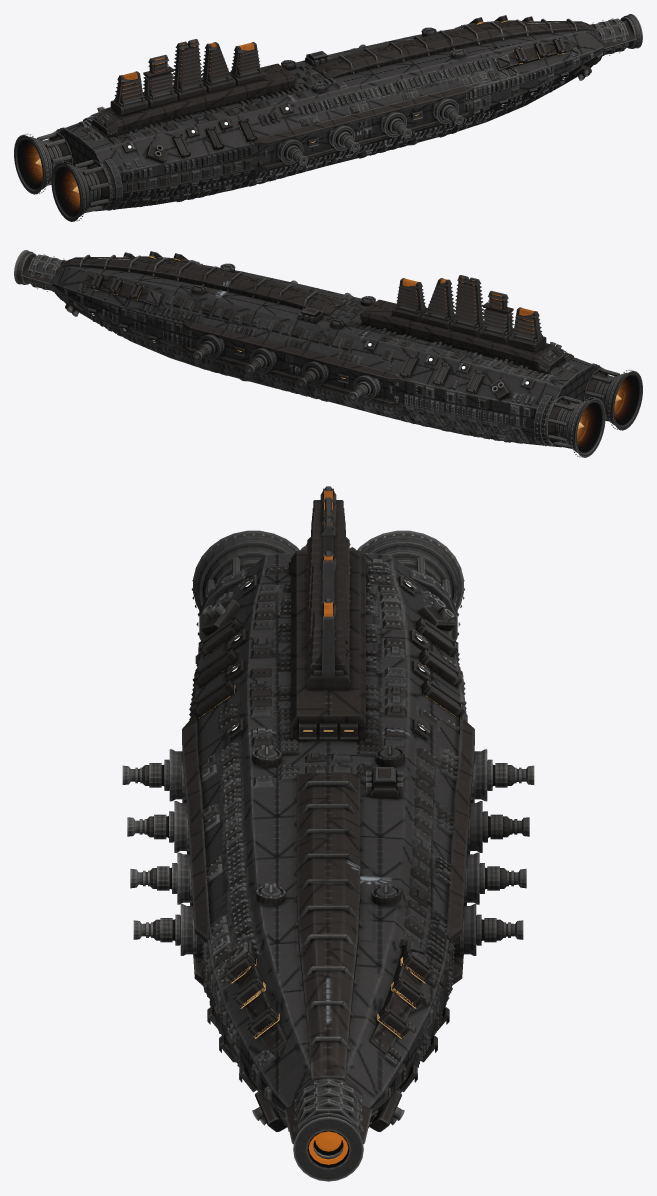
The picture shows the model from 3 angles, top to bottom: view 1: azimuth 30°, elevation 25°; view 2: azimuth 150°, elevation 25°; view 3: azimuth 270°, elevation 25°; orthographic projection. The views are drawn at different scales.
Parts seen in each view (by area): view 1: V16_37; view 2: V16_37; view 3: V16_37.
Boxes of the visible parts, bbox=[...] form: V16_37: bbox=[14, 14, 642, 221]; V16_37: bbox=[14, 250, 642, 457]; V16_37: bbox=[122, 486, 534, 1181].
Bounding box in the file's own units: 1 × 0.2426 × 0.3041.
Materials: 17 (3 with a texture image).
